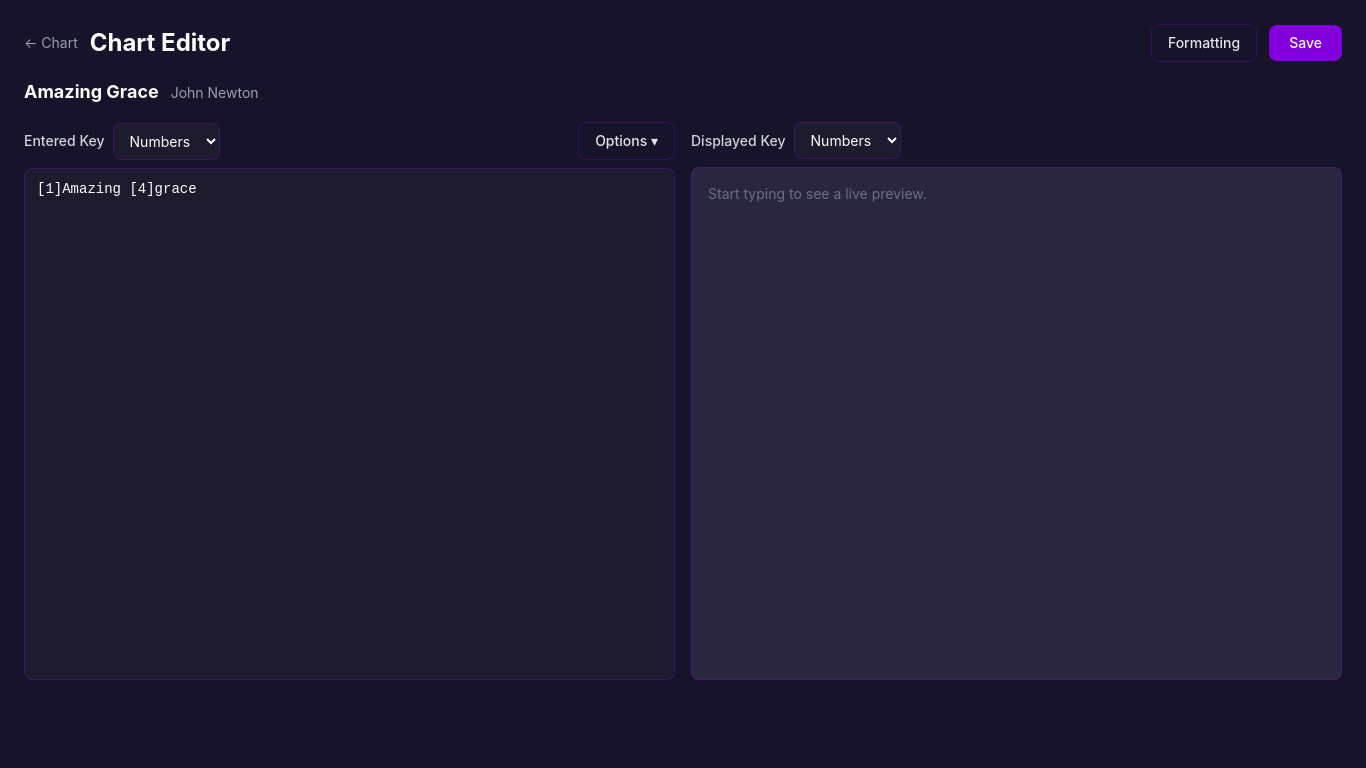
Test: ChartEditorPage (#9.3) › Options menu inserts modify the textarea body (R11.4, R11.5) › Page Break inserts PAGE_BREAK into the textarea
expect the dropdown labelled "Entered Key" is enabled: met, box [113,122,220,160]
expect the text box showing "[1]Amazing [4]grace" is shown: met, box [24,168,675,680]
Click the button "Options ▾" at (627, 141), box [578,122,675,160]
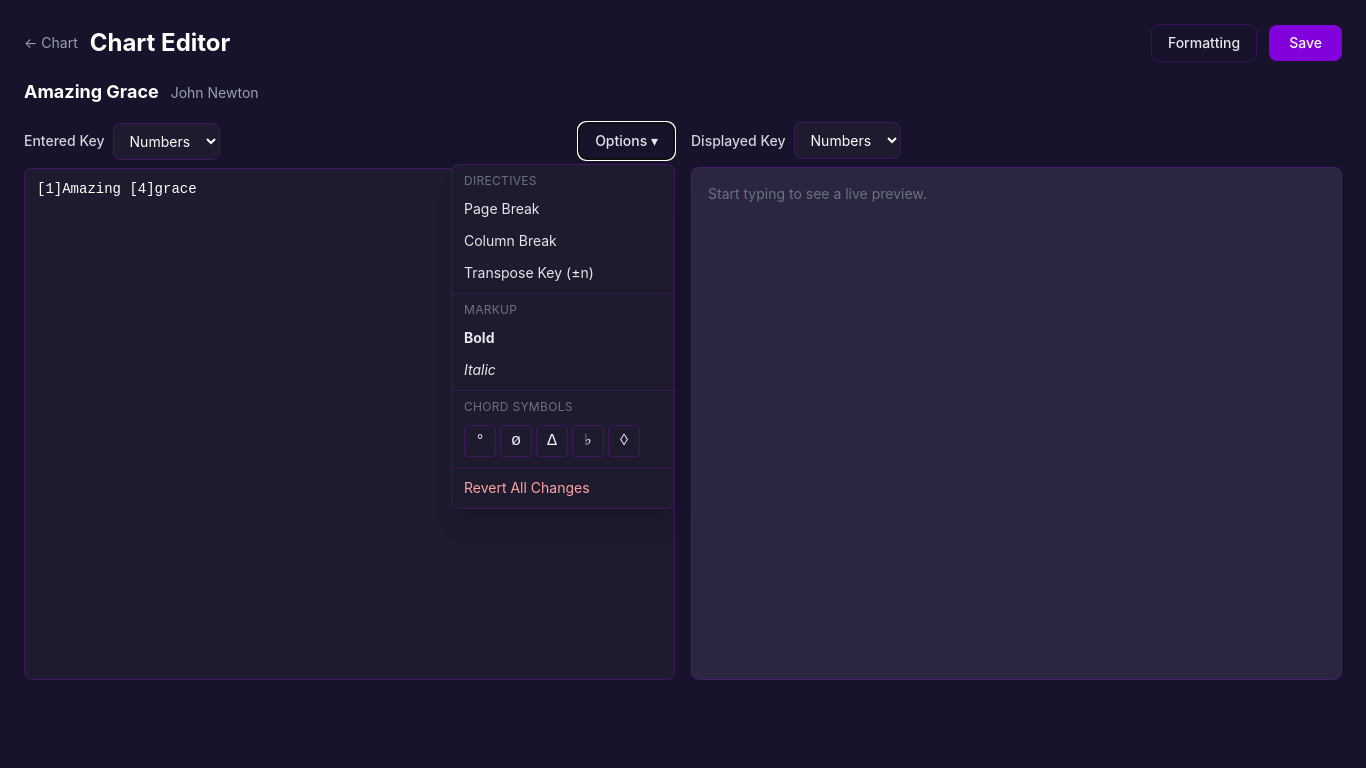
Click the menu item "Page Break" at (563, 209), box [452,193,674,225]
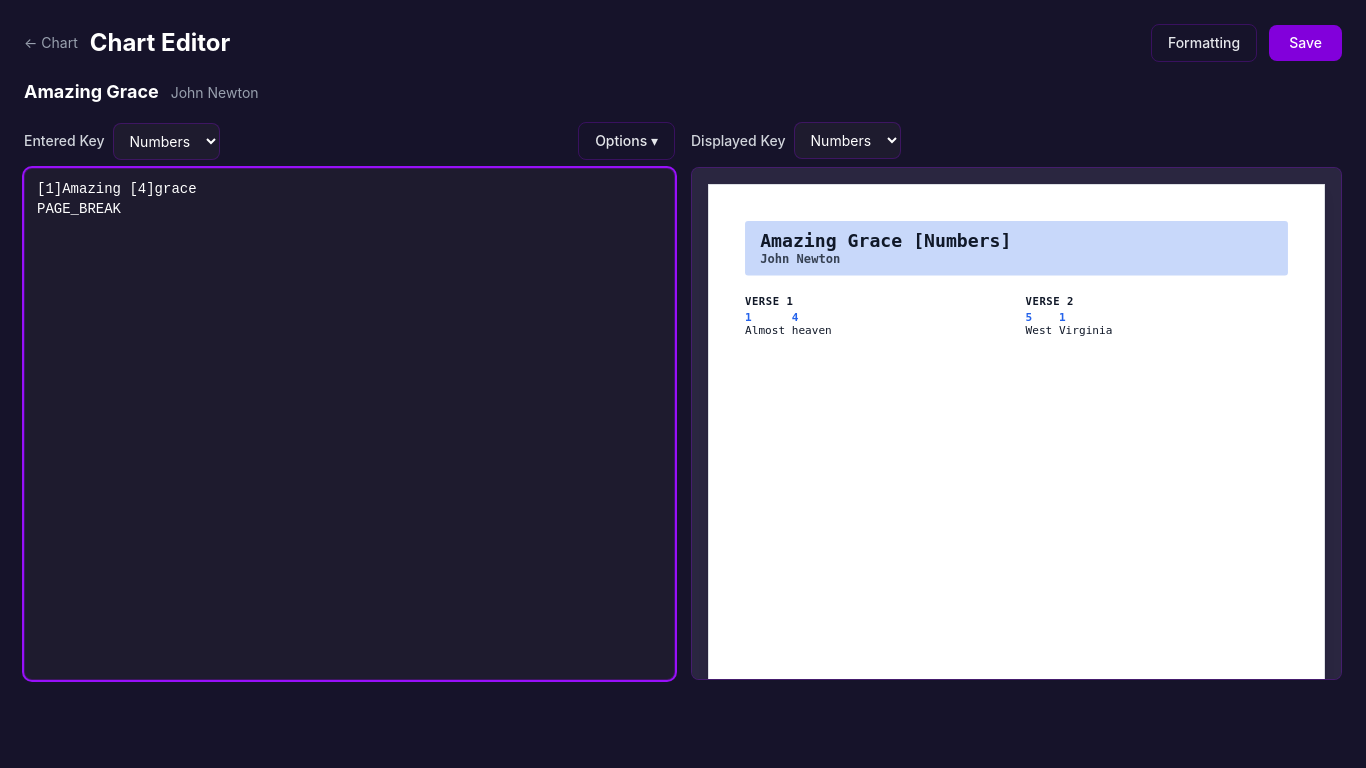
expect the text box showing "PAGE_BREAK" is shown: met, box [24,168,675,680]
